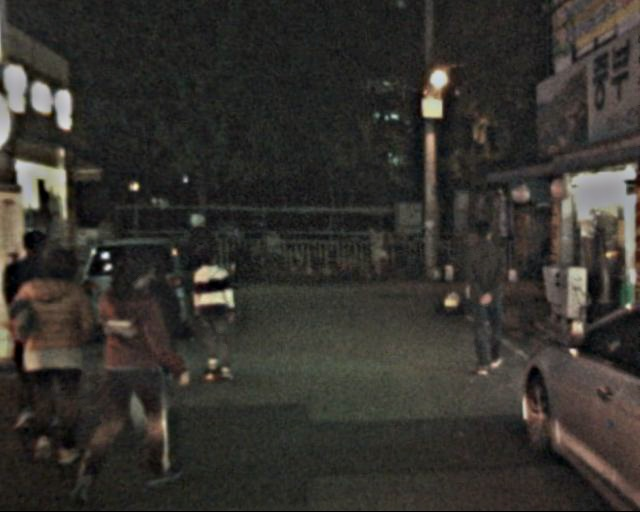person: (92, 244, 184, 494), (11, 241, 111, 466), (111, 238, 195, 457), (459, 212, 518, 379), (190, 236, 242, 385)
